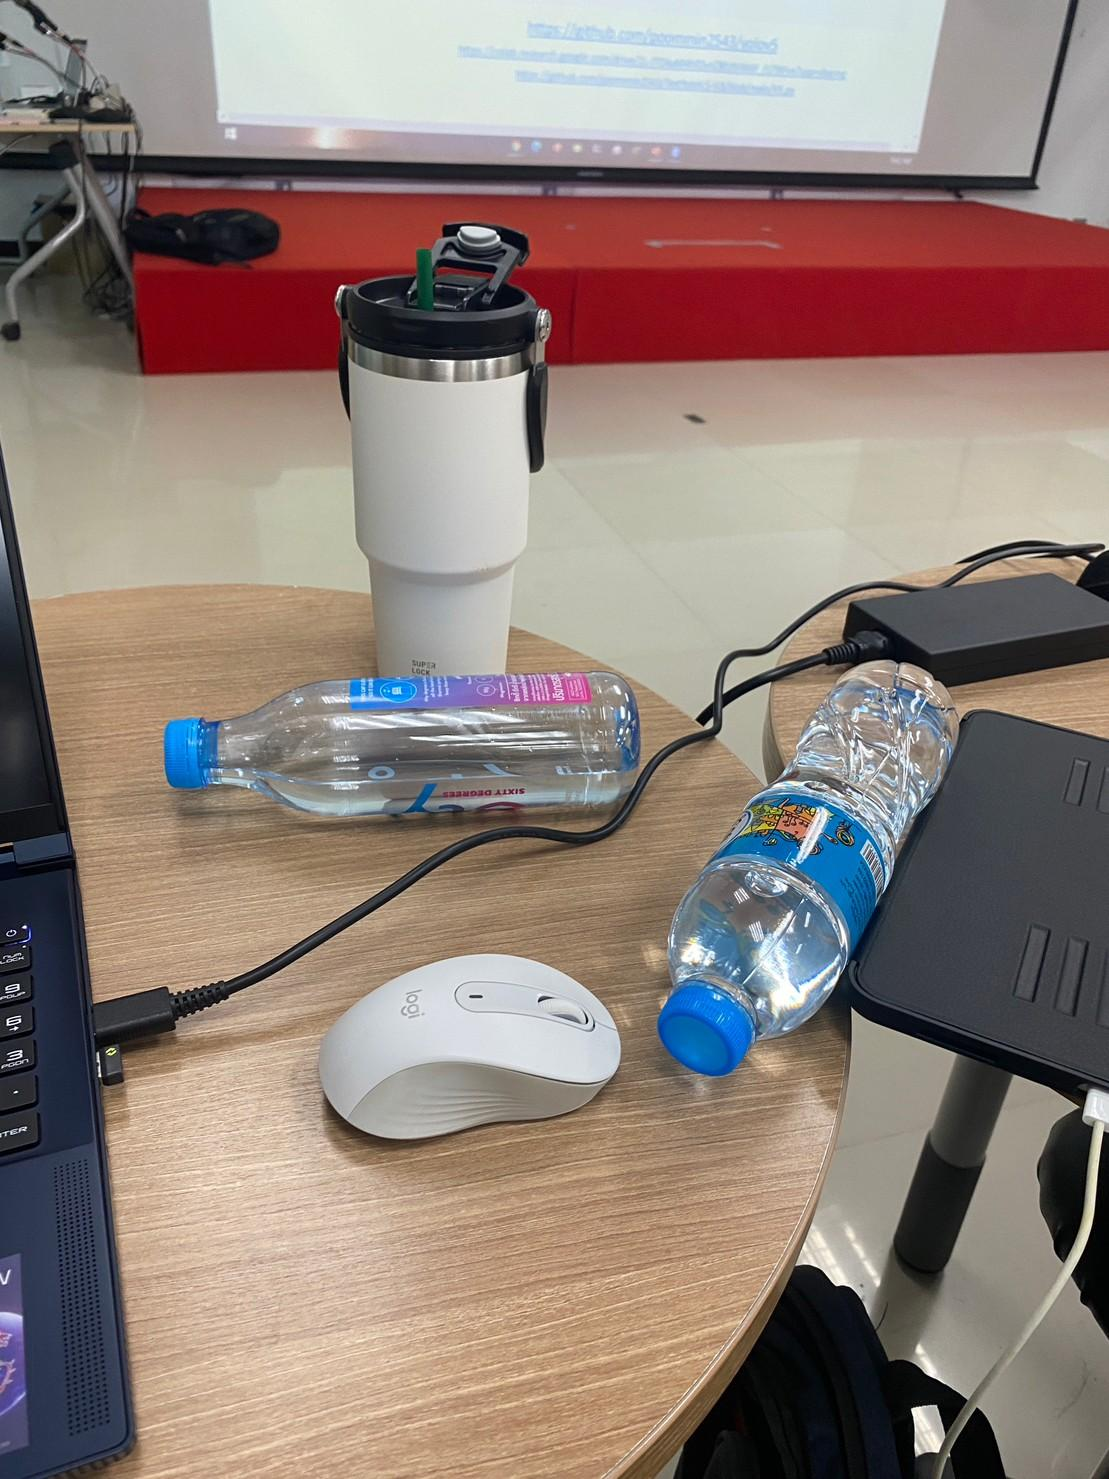bottle: (164, 663, 644, 837)
